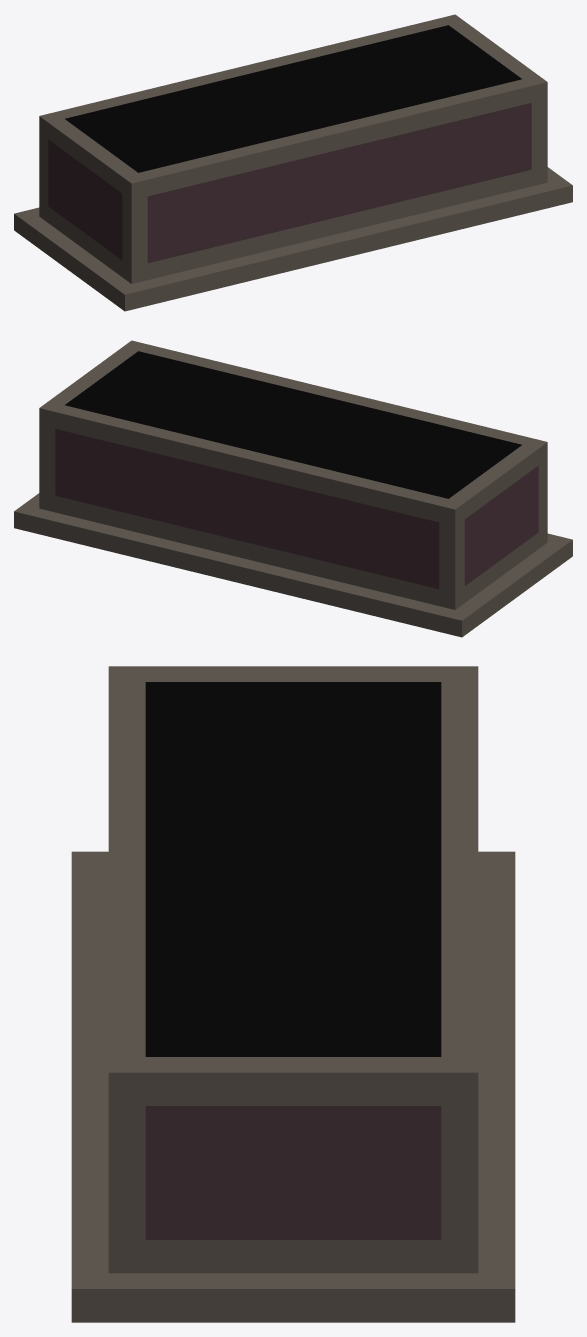
The model's file is tomb_a_b.obj.
3 views of the same model, one above another, from view 1: azimuth 30°, elevation 25°; view 2: azimuth 150°, elevation 25°; view 3: azimuth 270°, elevation 25° (orthographic). The views are drawn at different scales.
Bounding box in the file's own units: 2.8 × 0.7 × 1.2.
Materials: 1 (1 with a texture image).
